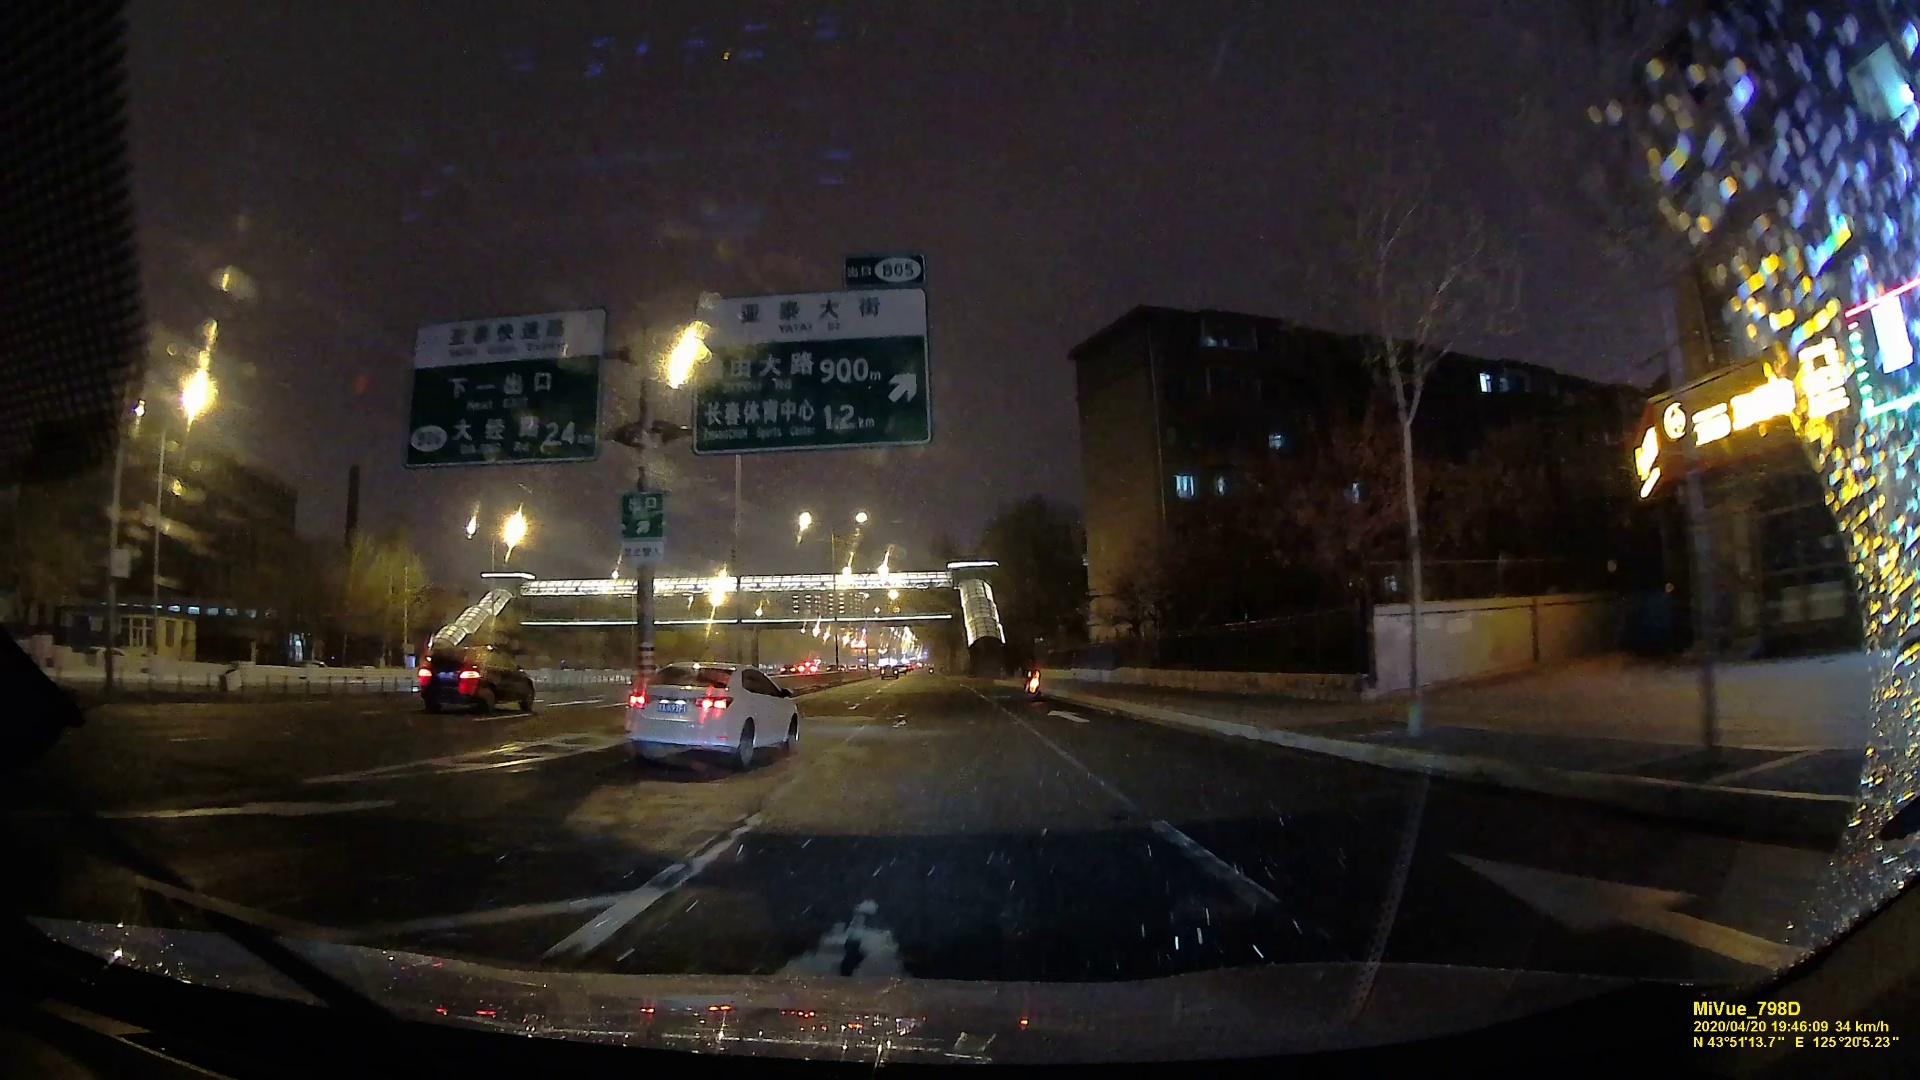traffic_sign: (702, 301, 932, 450), (411, 316, 589, 472), (620, 496, 659, 560)
vehicle: (625, 661, 803, 771), (414, 646, 546, 712)
